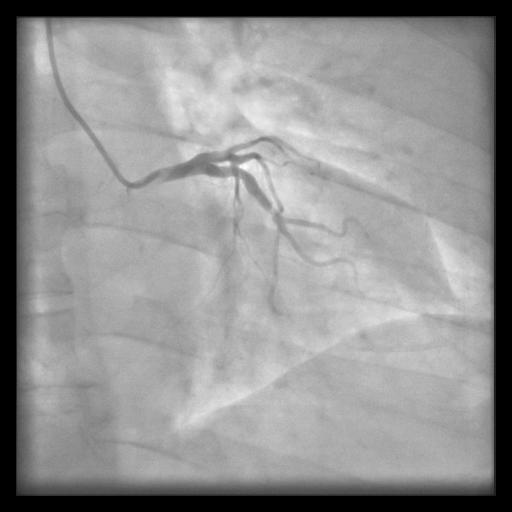Stenosis: (266, 200, 276, 218)
